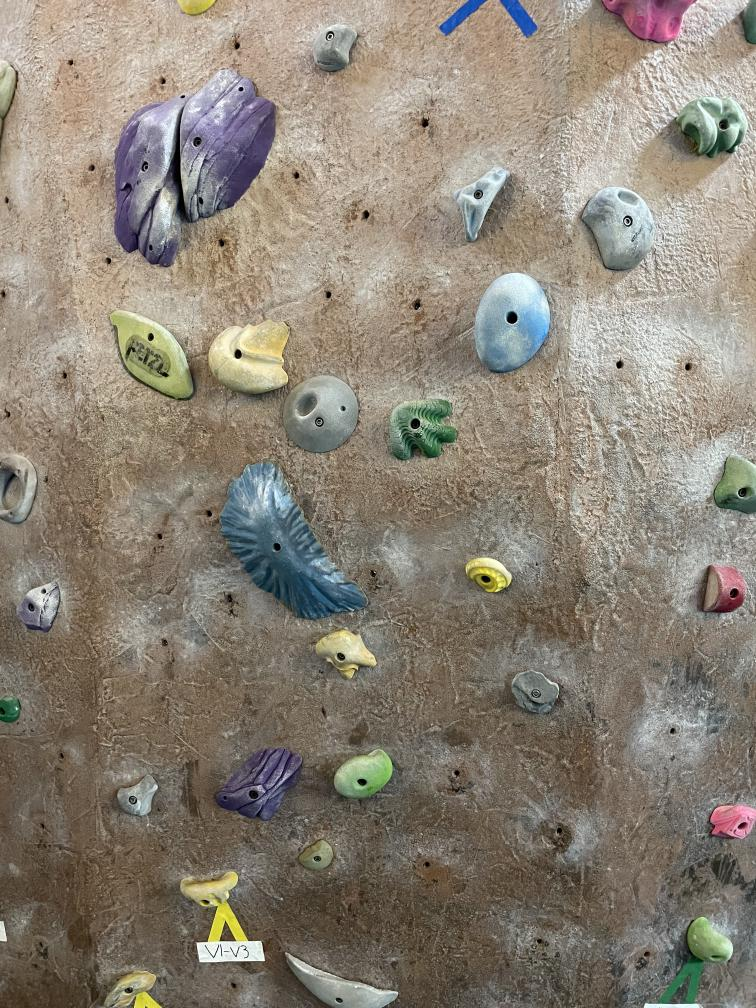Crimp: (281, 949, 402, 1008), (505, 667, 565, 728), (107, 770, 167, 826), (14, 579, 62, 638), (297, 838, 335, 872)
Edges: (100, 72, 279, 271), (217, 462, 364, 622), (213, 745, 306, 830)
Jug: (462, 265, 559, 375), (105, 298, 200, 409), (669, 74, 756, 174), (202, 316, 298, 401), (374, 389, 468, 470), (323, 740, 396, 804), (445, 166, 509, 238), (306, 627, 382, 687), (164, 857, 237, 916), (459, 542, 520, 606), (97, 953, 164, 1008), (713, 450, 756, 518)
Pinch: (682, 912, 743, 966), (308, 24, 360, 73), (703, 798, 756, 845)
Pocket: (576, 186, 656, 272), (279, 377, 364, 447), (0, 447, 44, 535), (698, 561, 750, 617)
